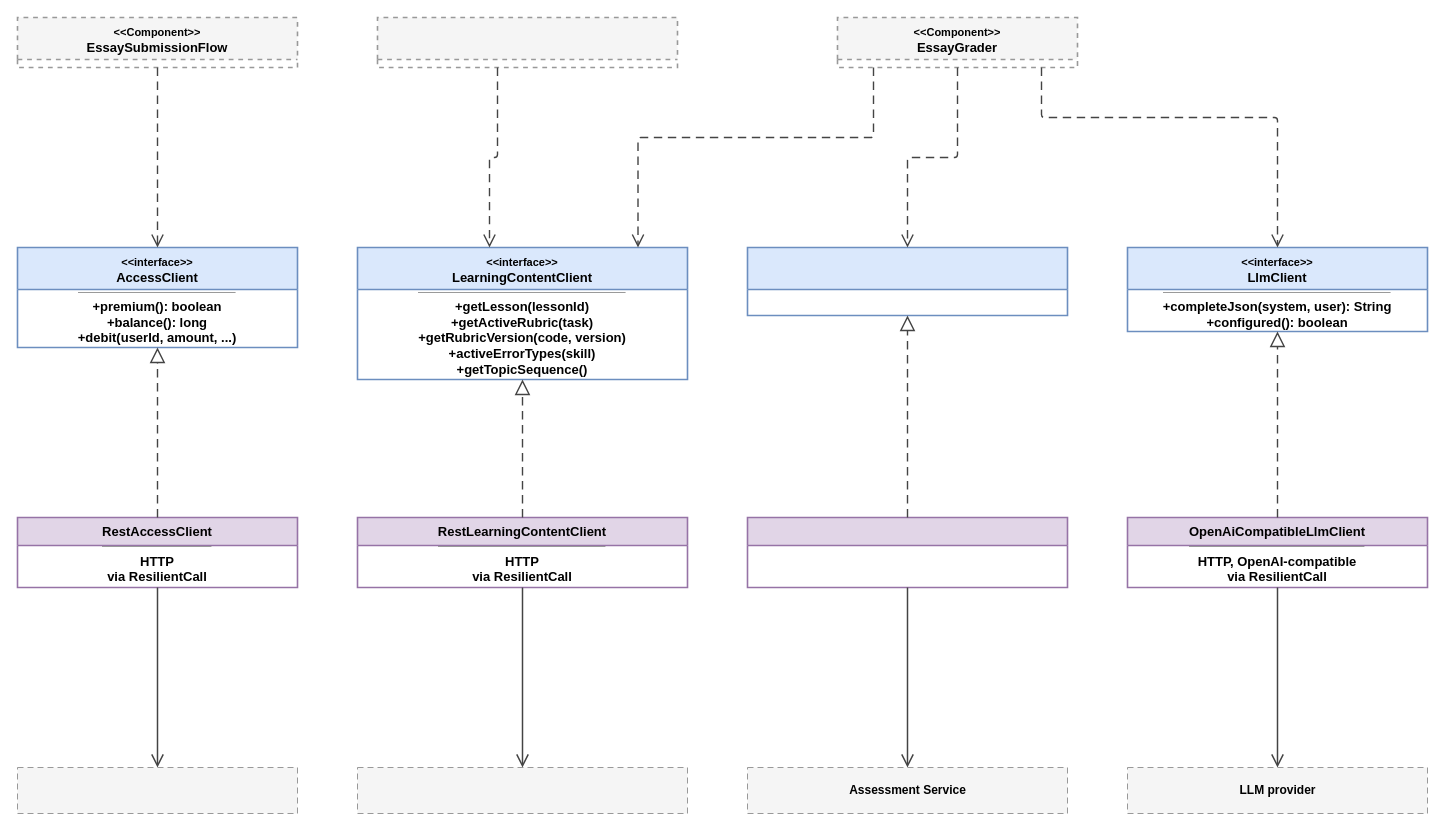
Image size: 1446x832. Some labels were removed from this diagram. The shapes that lost their labels are listed below. From the top down, each one's centre as x and y in pixels, then its label:
At [527,42]: "<<Service>> SubmitLessonEssayUseCase".
At [907,281]: "<<interface>> EssayPromptActivationProvider +activatedVersion(task): String".
At [907,552]: "RestEssayPromptActivationClient HTTP via ResilientCall".
At [157,790]: "Access Service".
At [522,790]: "Content Service".
